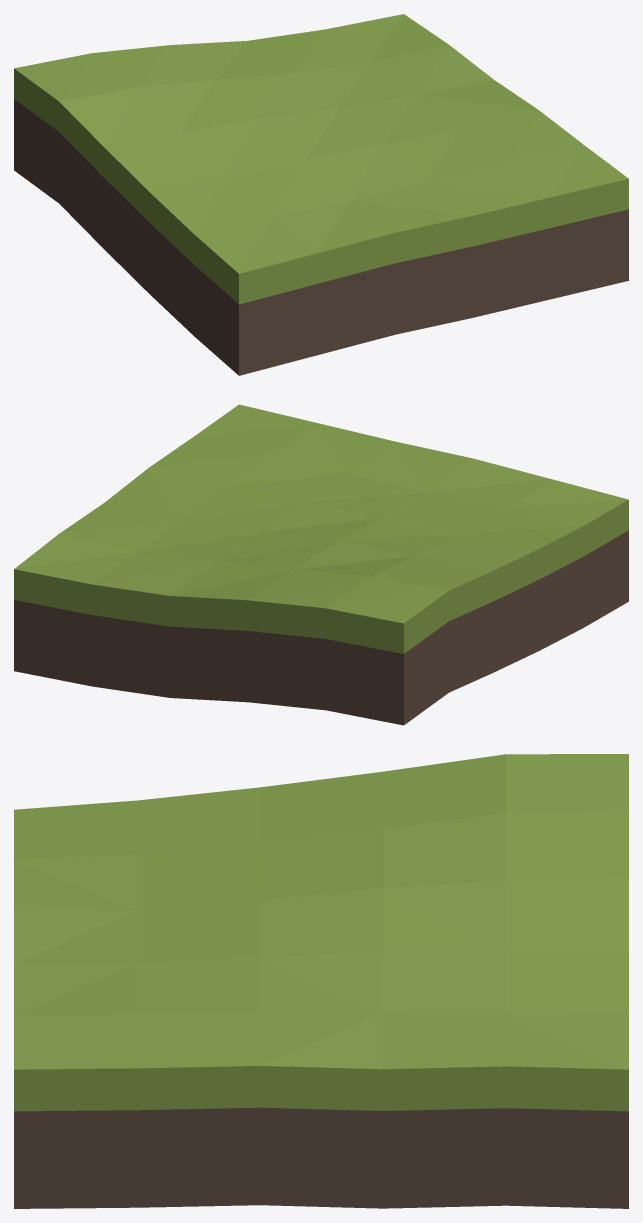
Rendered from terrain-world-hill_01-3.fbx.
3 renders of one model, top to bottom at view 1: azimuth 30°, elevation 25°; view 2: azimuth 150°, elevation 25°; view 3: azimuth 270°, elevation 25°, orthographic. The views are drawn at different scales.
Parts seen in each view (by area): view 1: terrain-world-hill_01-3; view 2: terrain-world-hill_01-3; view 3: terrain-world-hill_01-3.
Boxes of the visible parts, x1=… form: terrain-world-hill_01-3: x1=14, y1=14, x2=628, y2=375; terrain-world-hill_01-3: x1=14, y1=404, x2=628, y2=725; terrain-world-hill_01-3: x1=14, y1=754, x2=628, y2=1208.
Bounding box in the file's own units: 2000 × 700 × 2000.
